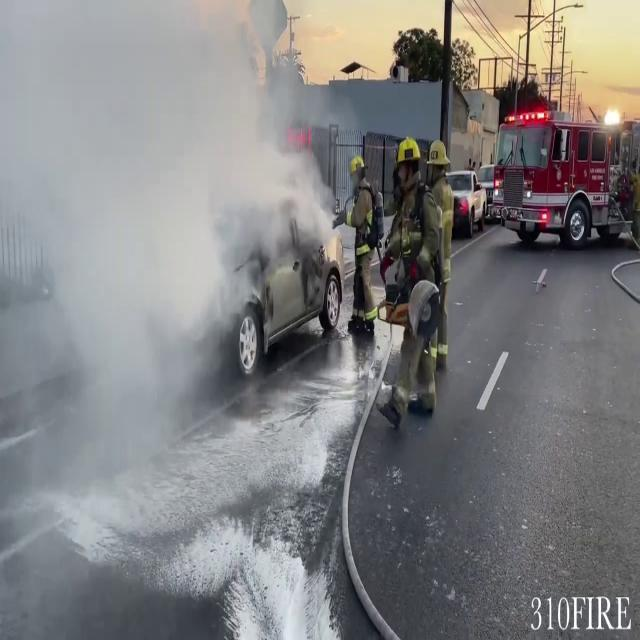Smoke: (0, 0, 335, 406)
